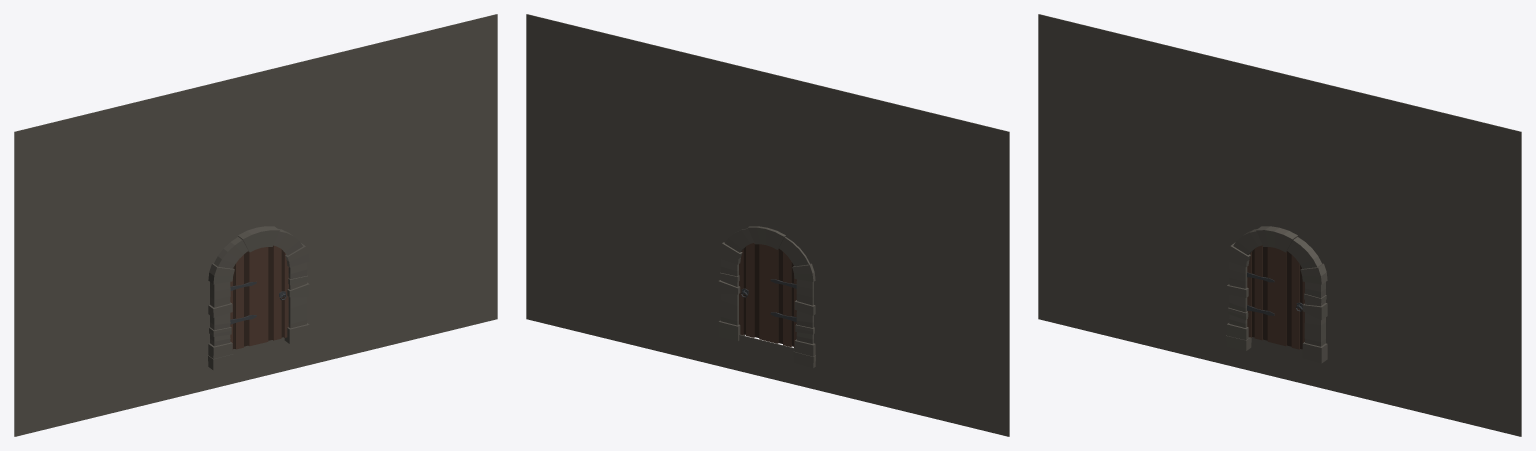
File: EntranceDoor.fbx
3 views of the same model, side by side, from view 1: azimuth 30°, elevation 25°; view 2: azimuth 150°, elevation 25°; view 3: azimuth 330°, elevation 25° (orthographic).
Visible parts, largest first — view 1: Wall, Frame, Door; view 2: Wall, Frame, Door; view 3: Wall, Frame, Door.
Boxes of the visible parts, bbox=[...] form: Wall: bbox=[14, 14, 497, 436]; Frame: bbox=[208, 226, 309, 370]; Door: bbox=[230, 245, 288, 349]; Wall: bbox=[526, 14, 1009, 436]; Frame: bbox=[718, 226, 815, 368]; Door: bbox=[739, 243, 796, 347]; Wall: bbox=[1038, 14, 1521, 436]; Frame: bbox=[1226, 226, 1327, 363]; Door: bbox=[1247, 245, 1304, 349].
Bounding box in the file's own units: 1744 × 1052 × 53.32.
